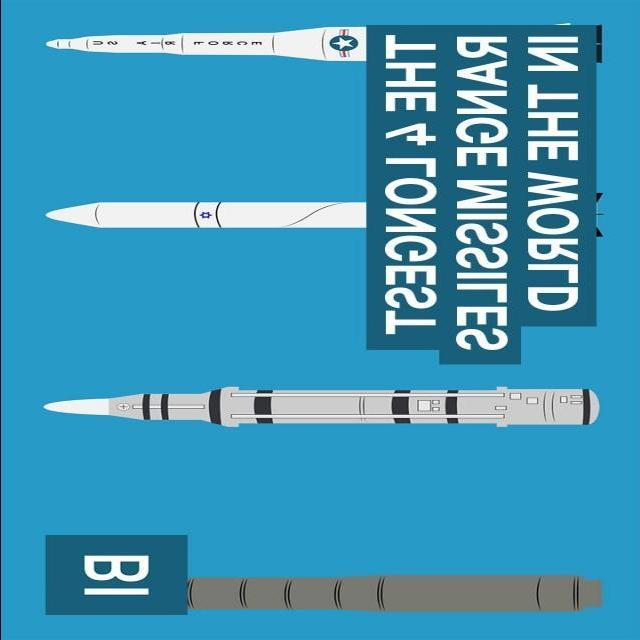missile: (28, 380, 610, 435), (35, 19, 370, 72), (29, 200, 376, 233)
